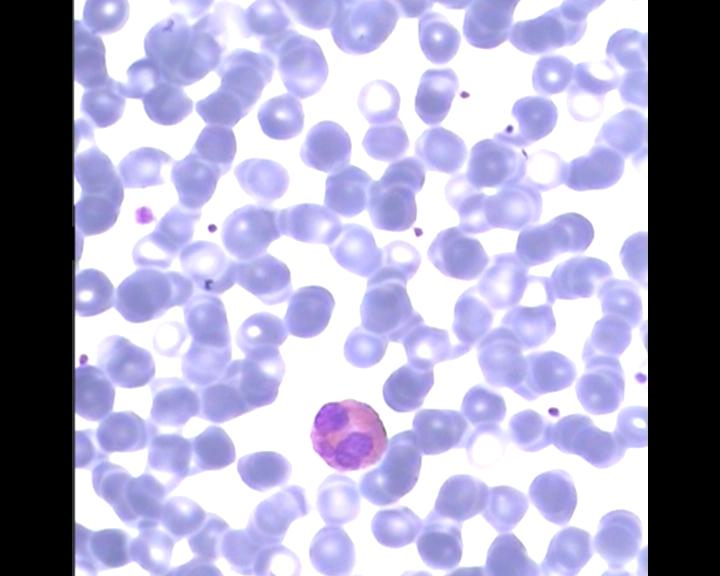eosi: (302, 393, 391, 475)
